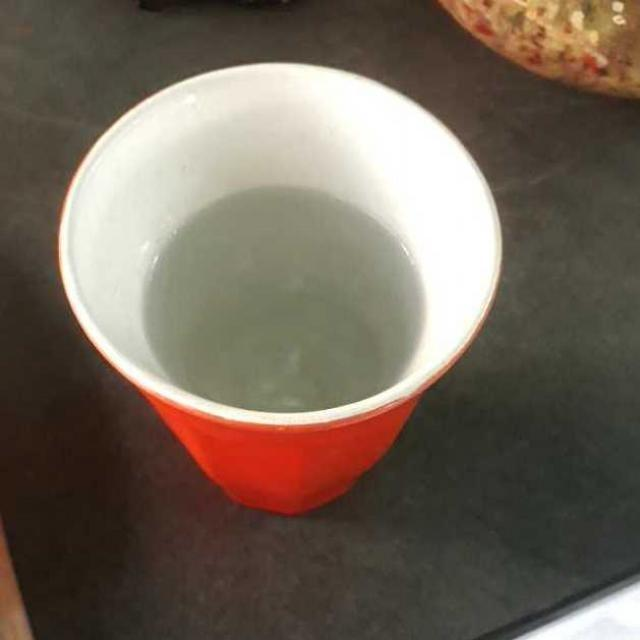water: (113, 176, 463, 438)
